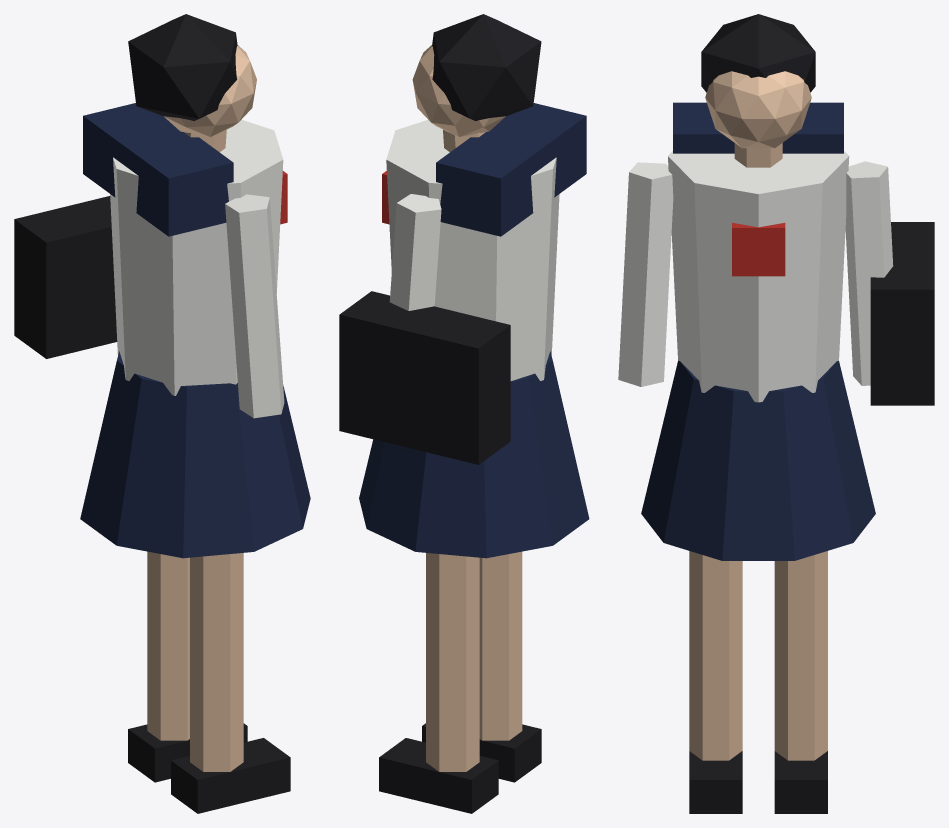
The model's file is skolelev.glb.
3 views of the same model, side by side, from view 1: azimuth 30°, elevation 25°; view 2: azimuth 150°, elevation 25°; view 3: azimuth 270°, elevation 25° (orthographic).
Parts seen in each view (by area): view 1: skolelev; view 2: skolelev; view 3: skolelev.
Boxes of the visible parts, <box> form: skolelev: <box>14,14,310,813</box>; skolelev: <box>339,14,589,813</box>; skolelev: <box>618,14,934,813</box>.
Size of the model in its own units: 0.4185 by 1.58 by 0.5927.
